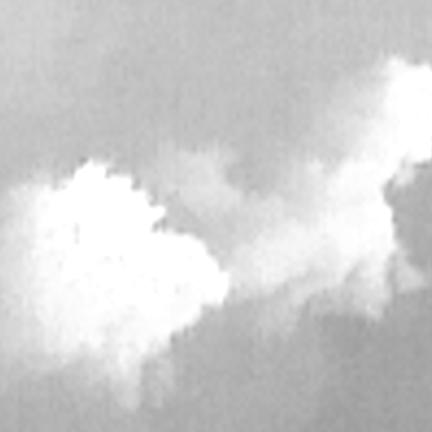flukeprints: (18, 163, 228, 393), (384, 61, 431, 163)
